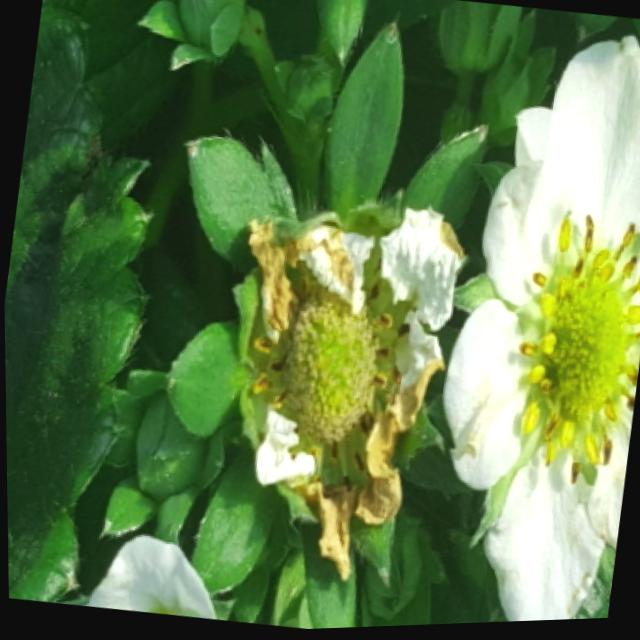Blossom Blight: (245, 256, 413, 501), (510, 211, 640, 494)
